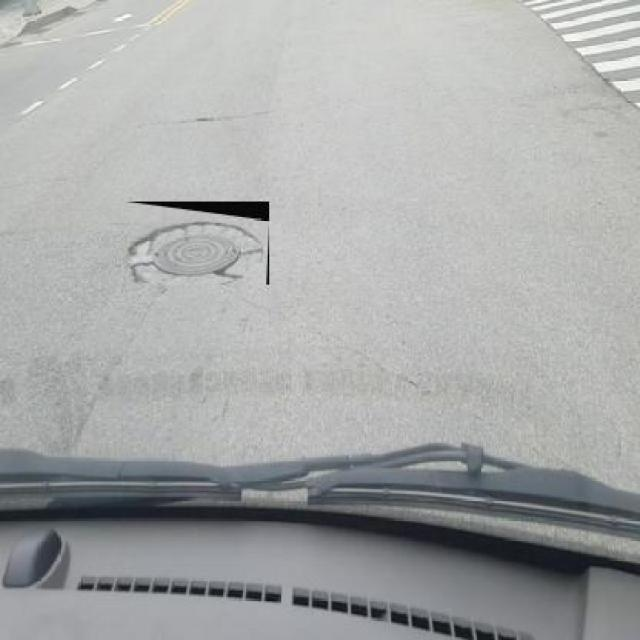Manhole: (125, 202, 270, 284)
Speed Bump: (536, 0, 640, 117)
